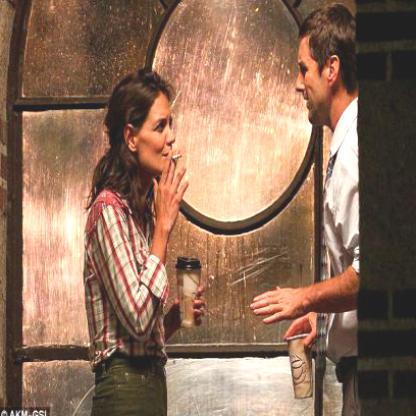cigarette: (171, 152, 182, 160)
person: (86, 68, 180, 415), (292, 0, 362, 415)
